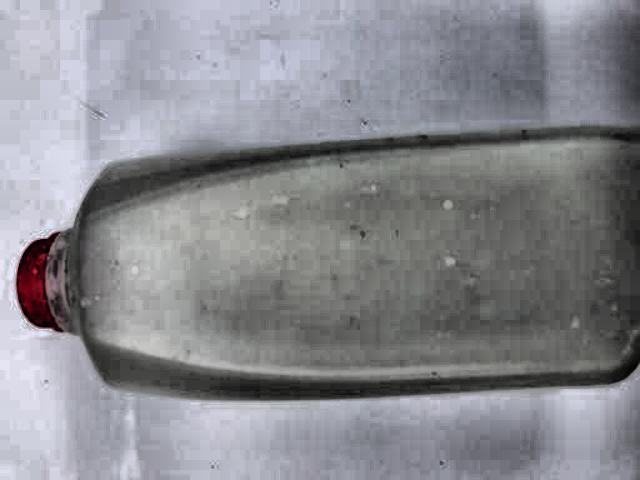Plastic: (0, 110, 640, 416)
